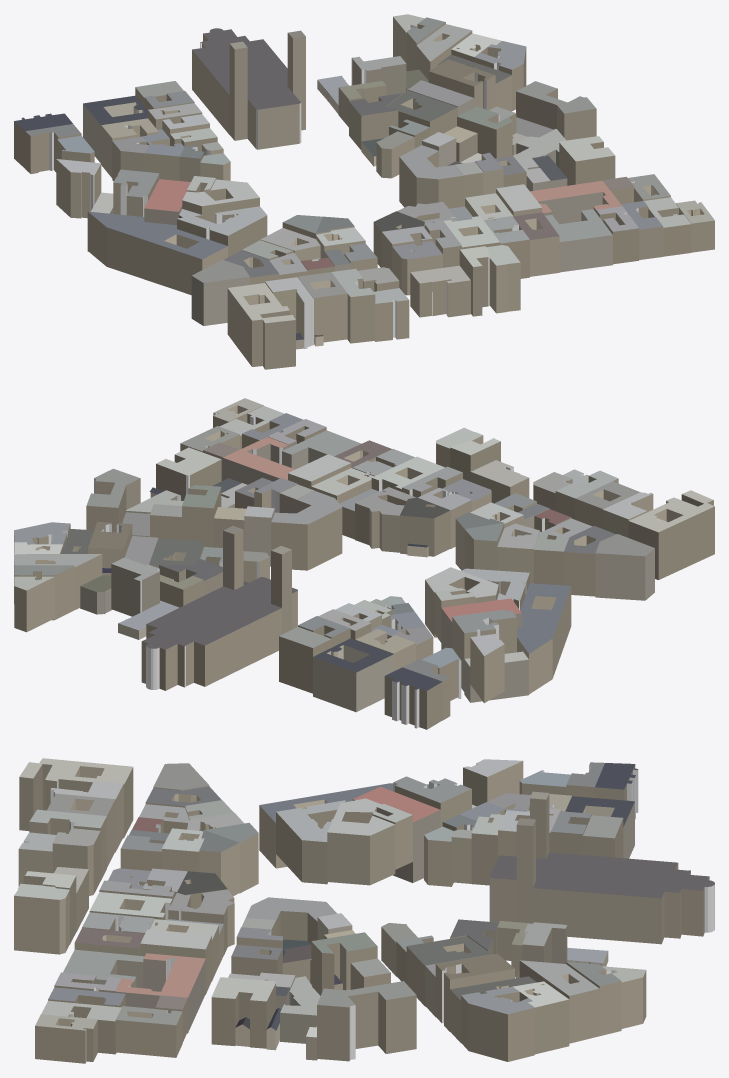
The picture shows the model from 3 angles, top to bottom: view 1: azimuth 30°, elevation 25°; view 2: azimuth 150°, elevation 25°; view 3: azimuth 270°, elevation 25°; orthographic projection. The views are drawn at different scales.
Visible parts, largest first — view 1: tuile; view 2: tuile; view 3: tuile.
Boxes of the visible parts, <box> form: tuile: <box>14,14,714,369</box>; tuile: <box>14,398,714,729</box>; tuile: <box>14,758,714,1063</box>.
Bounding box in the file's own units: 264 × 67.86 × 294.
